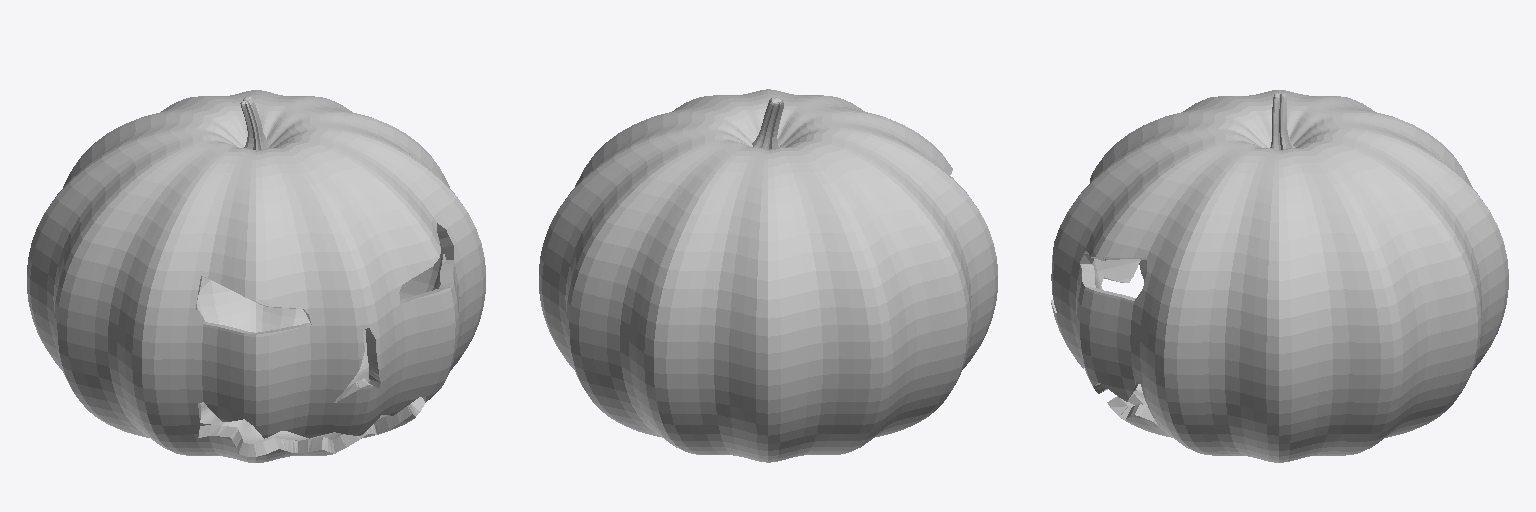
Rendered from potiron.obj.
3 views of the same model, side by side, from view 1: azimuth 30°, elevation 25°; view 2: azimuth 150°, elevation 25°; view 3: azimuth 270°, elevation 25° (orthographic).
Parts seen in each view (by area): view 1: body, Tail; view 2: body, Tail; view 3: body, Tail.
Boxes of the visible parts, x1,y1,x2,y2 form: body: [27, 90, 485, 462]; Tail: [240, 97, 268, 149]; body: [539, 89, 997, 462]; Tail: [752, 97, 783, 149]; body: [1051, 90, 1508, 462]; Tail: [1270, 92, 1294, 149].
Size of the model in its own units: 22.86 by 17.5 by 22.77.